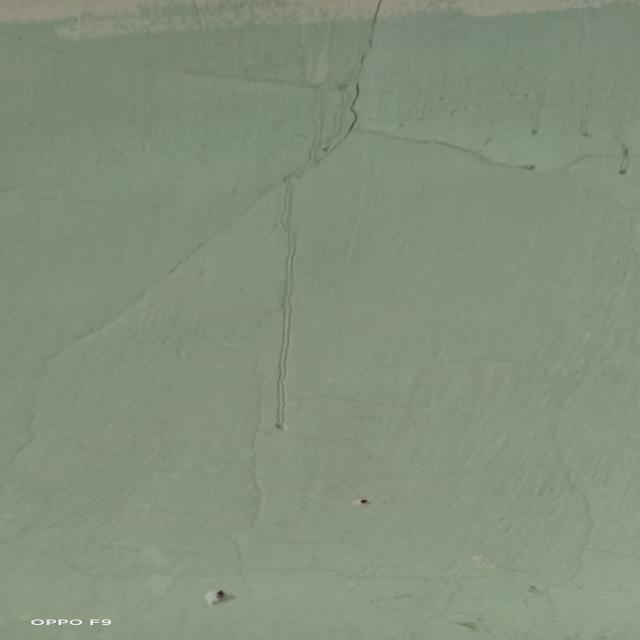Crack: (106, 220, 262, 298), (367, 127, 567, 176), (322, 2, 403, 114), (262, 129, 352, 196)
